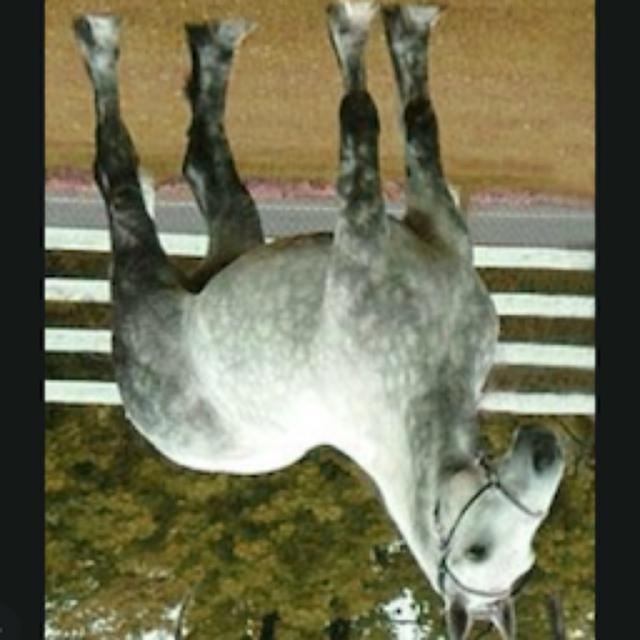Horse: (68, 2, 572, 640)
